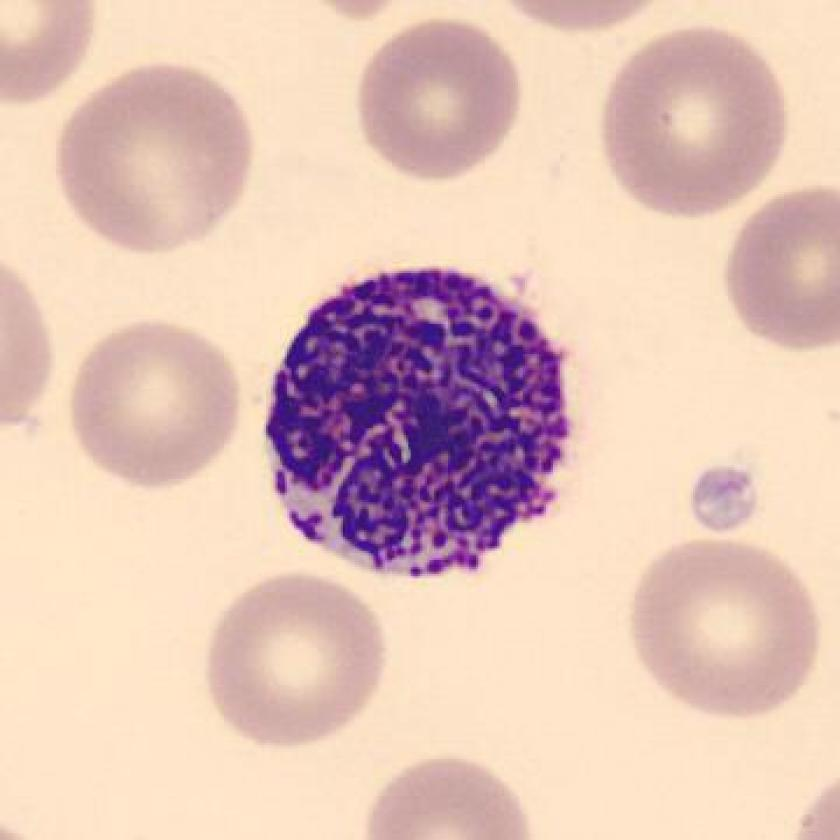basophil: (260, 254, 577, 587)
